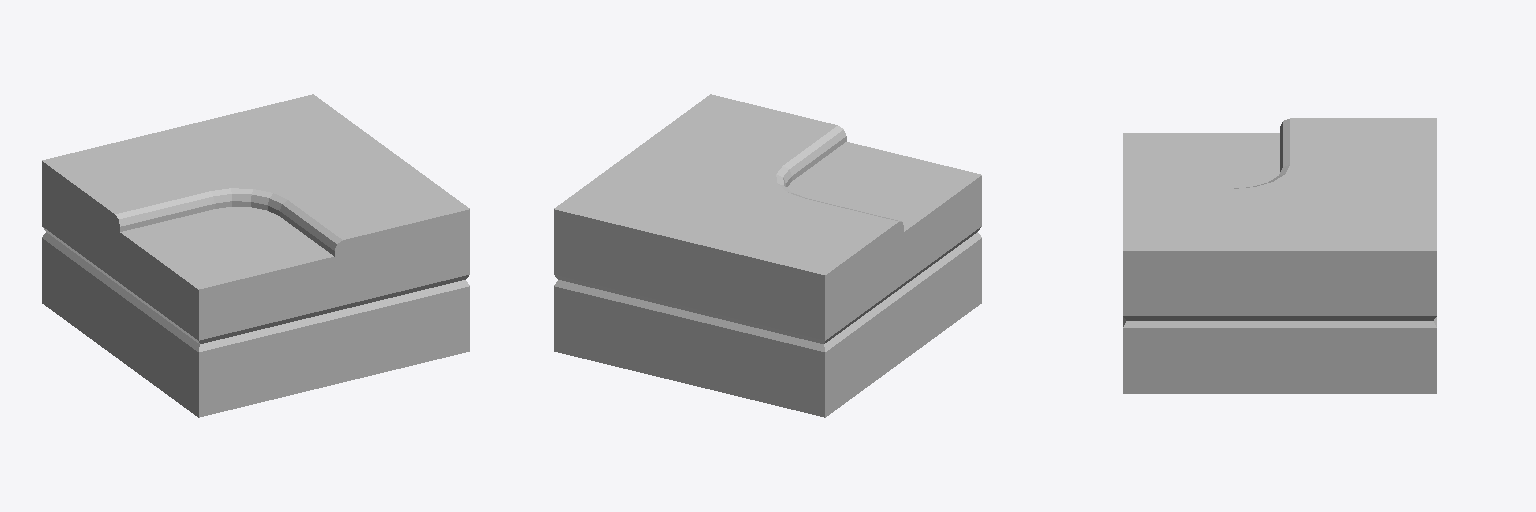
File: square_sand_waterInnerCorner.obj
3 views of the same model, side by side, from view 1: azimuth 30°, elevation 25°; view 2: azimuth 150°, elevation 25°; view 3: azimuth 270°, elevation 25° (orthographic).
Parts seen in each view (by area): view 1: square_sand_waterInnerCorner_Cube.474; view 2: square_sand_waterInnerCorner_Cube.474; view 3: square_sand_waterInnerCorner_Cube.474.
Boxes of the visible parts, x1,y1,x2,y2 form: square_sand_waterInnerCorner_Cube.474: [42, 94, 469, 417]; square_sand_waterInnerCorner_Cube.474: [554, 94, 981, 417]; square_sand_waterInnerCorner_Cube.474: [1123, 118, 1436, 393].
Size of the model in its own units: 2 by 1 by 2.